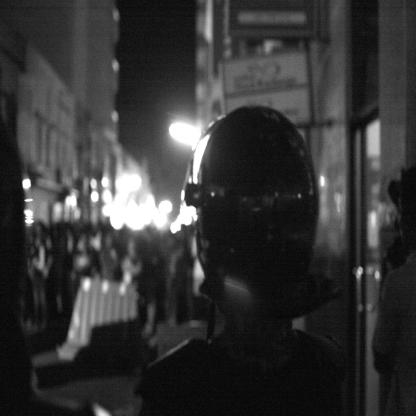Helmet: (176, 101, 316, 326)
